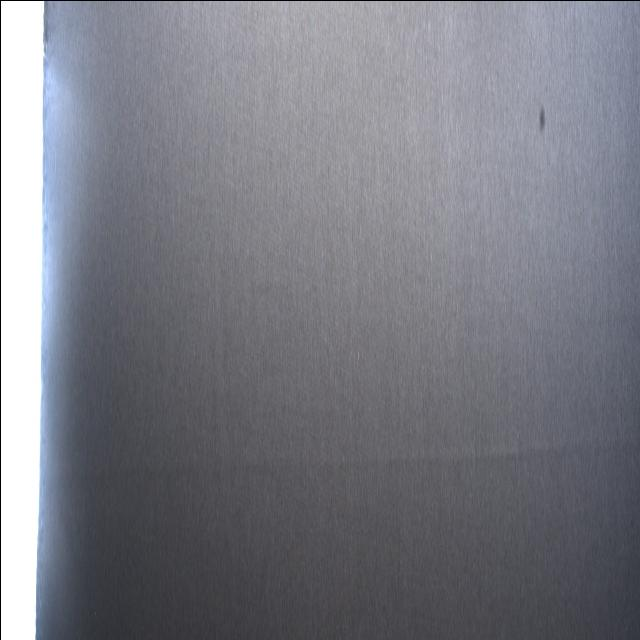crease: (108, 422, 632, 491)
